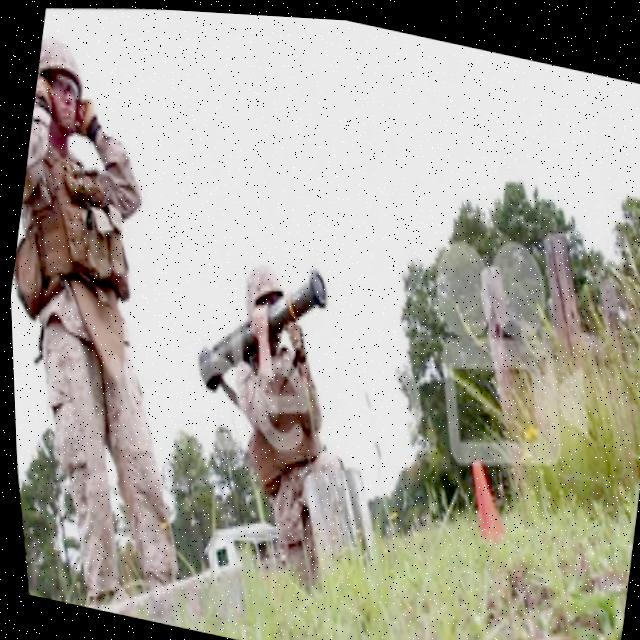rocket: (165, 233, 357, 429)
